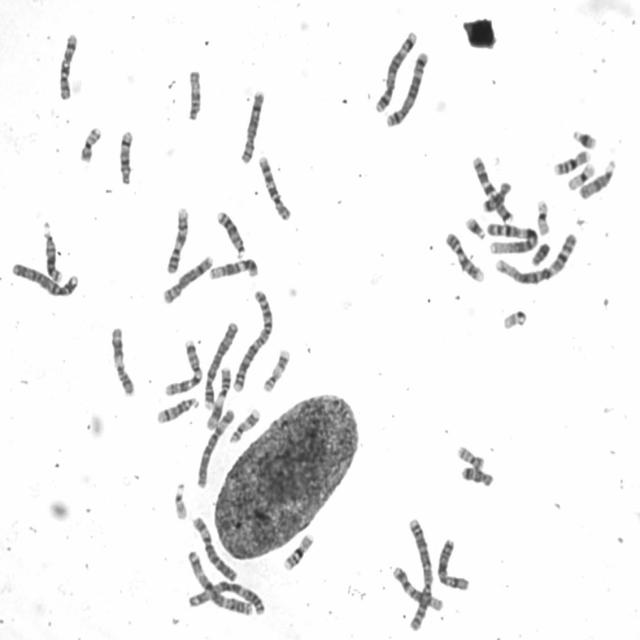A1: (491, 230, 578, 288), (484, 219, 539, 257)
A2: (229, 286, 275, 394), (404, 514, 434, 632)
A3: (185, 547, 256, 618), (184, 578, 266, 616)
B4: (200, 318, 240, 412), (10, 259, 80, 299)
B5: (372, 27, 418, 115), (383, 48, 430, 128)
C10: (255, 153, 292, 223), (57, 36, 79, 102)
C11: (203, 363, 233, 431), (109, 323, 136, 397)
C12: (390, 562, 445, 612), (206, 254, 260, 282)
C6: (194, 406, 237, 490), (190, 513, 238, 583)
C7: (469, 153, 514, 225), (161, 337, 205, 397)
C8: (160, 252, 214, 306), (237, 88, 266, 166)
C9: (443, 228, 485, 284), (164, 205, 191, 275)
D13: (213, 207, 247, 259), (40, 219, 62, 284)
D14: (154, 394, 201, 425), (117, 127, 134, 186)
D15: (576, 157, 617, 202), (185, 66, 203, 122)
E16: (281, 530, 315, 572), (551, 147, 591, 177)
E17: (260, 347, 291, 393), (227, 406, 262, 445)
E18: (480, 178, 512, 214), (458, 463, 496, 488)
F19: (564, 160, 596, 192), (535, 196, 551, 237)
F20: (78, 124, 103, 163), (455, 442, 486, 471)
G21: (463, 213, 488, 241), (570, 127, 598, 150)
G22: (172, 479, 189, 522), (500, 307, 529, 332)
X: (435, 536, 472, 592)
Y: (528, 238, 551, 267)
